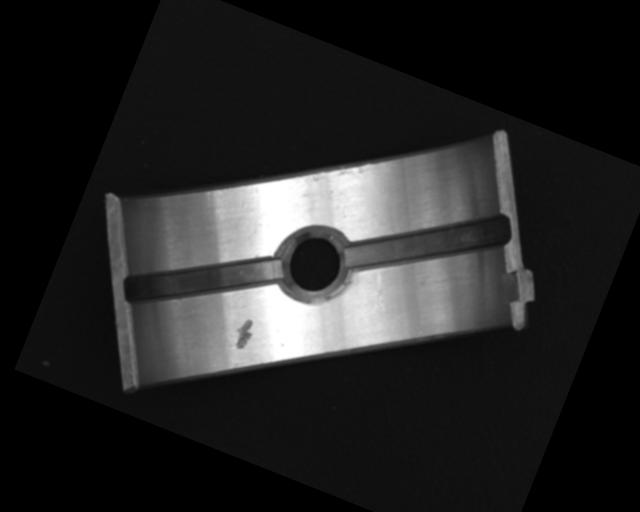bruise: (227, 314, 258, 353)
gap: (341, 165, 515, 319), (117, 211, 287, 352)
hole: (272, 220, 358, 313)
nick: (361, 269, 397, 318)
